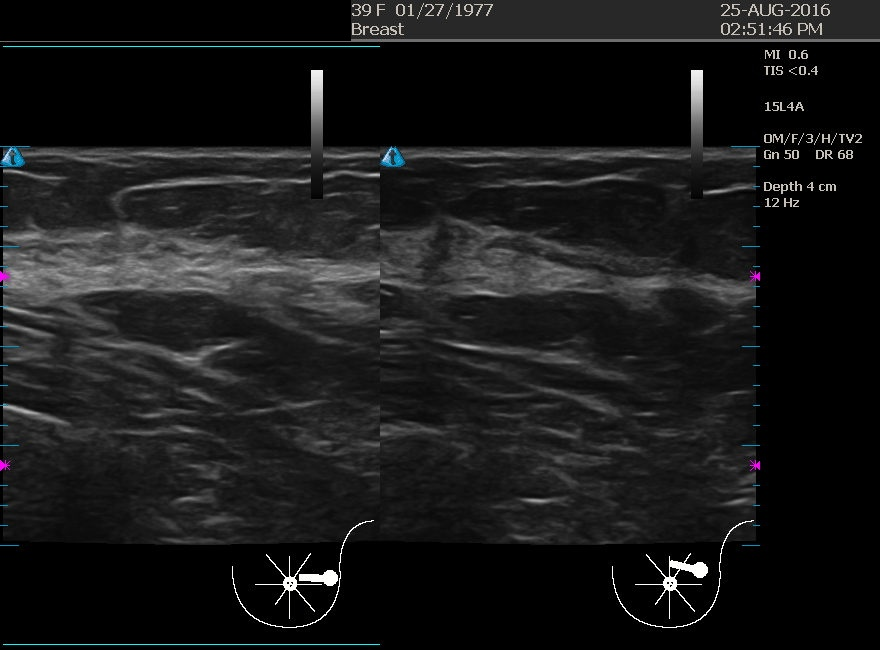Benign: (70, 211, 270, 411), (430, 219, 630, 419)
